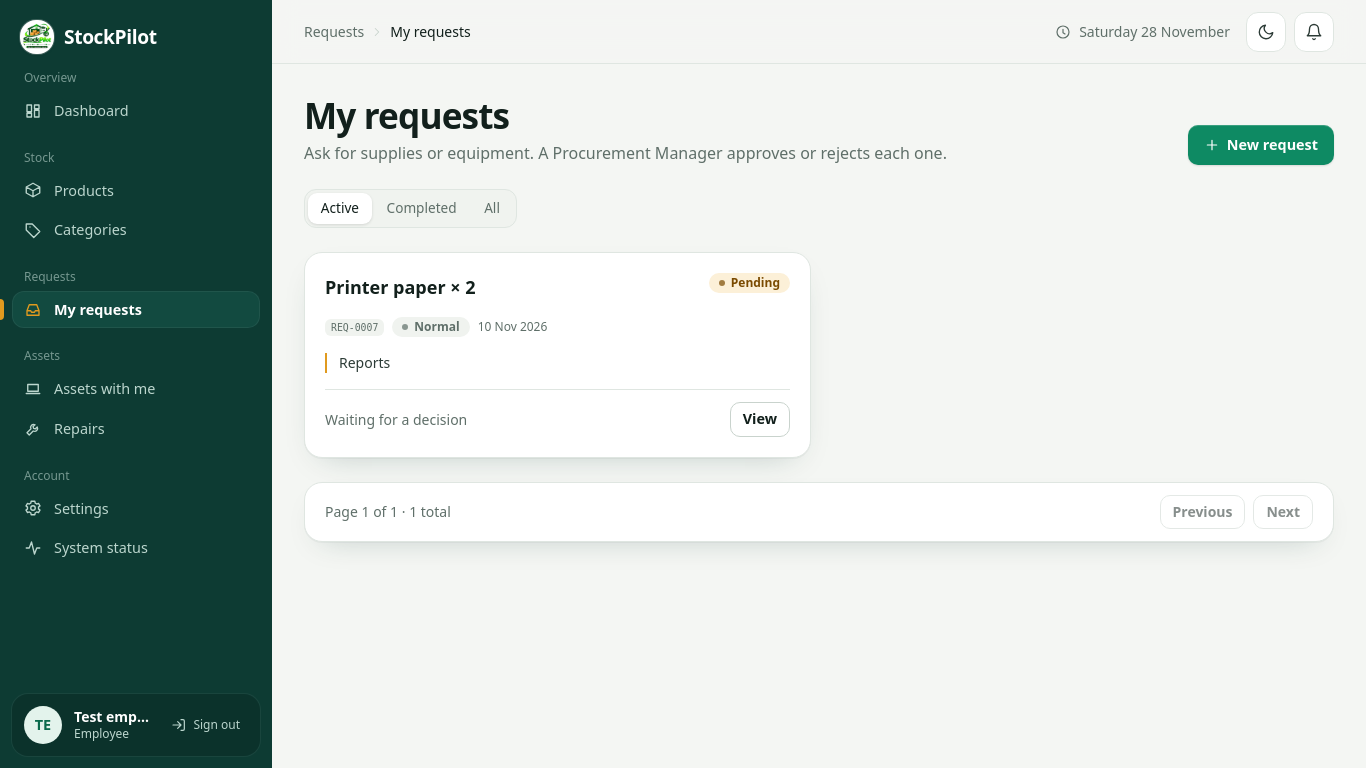
optimistic requests › bring back a request the server would not cancel
This screenshot has width=1366, height=768.
Click the button with aria-label "View request for Printer paper" at (760, 420), box x1=730 y1=402 x2=790 y2=437
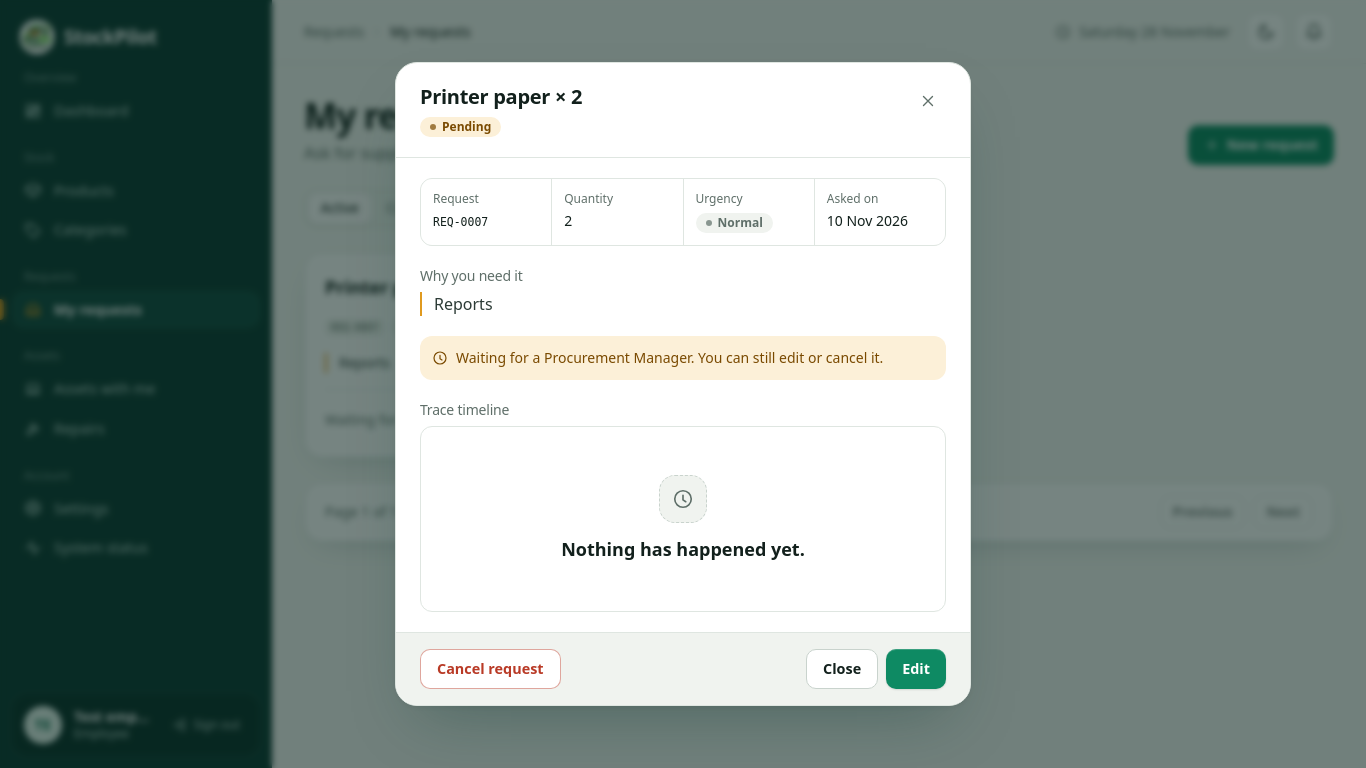
Click the button "Cancel request" at (490, 669), box x1=420 y1=649 x2=561 y2=689
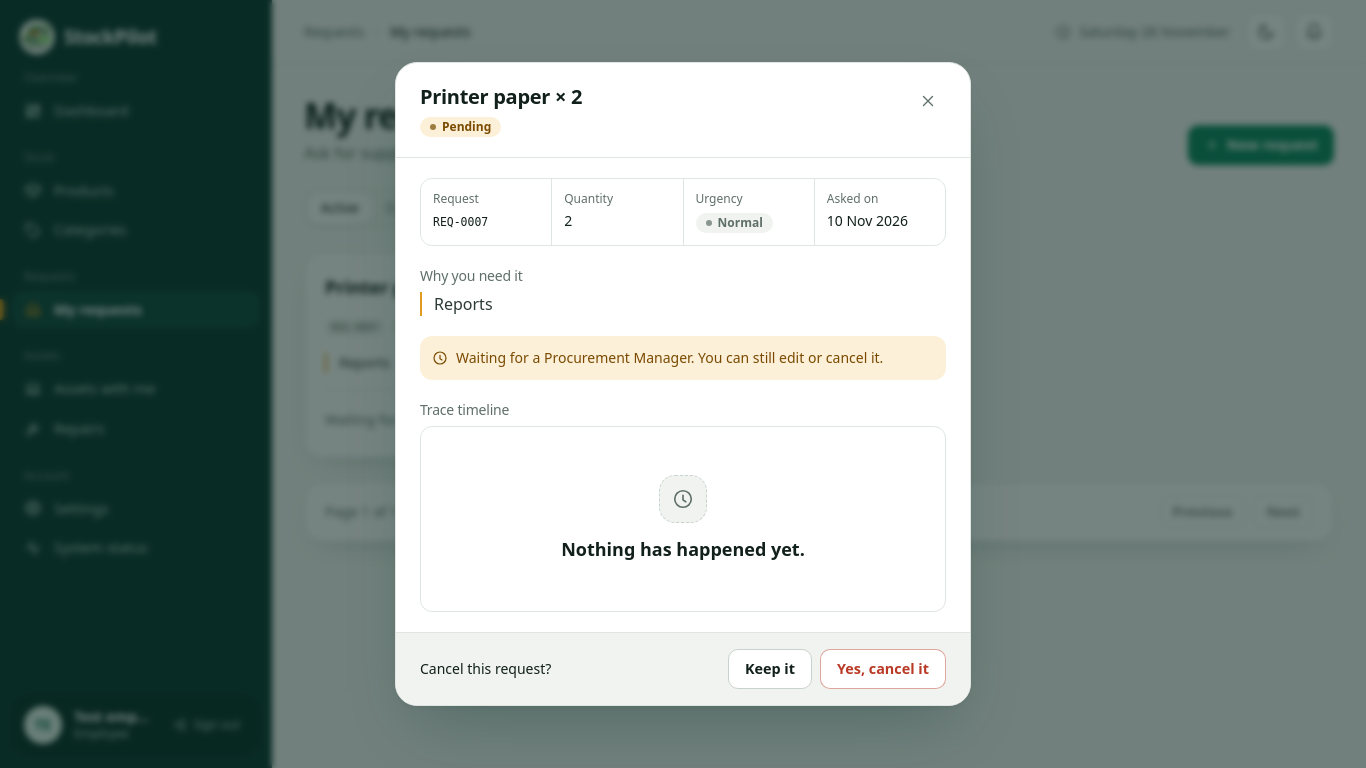
Click the button "Yes, cancel it" at (883, 669), box x1=820 y1=649 x2=946 y2=689
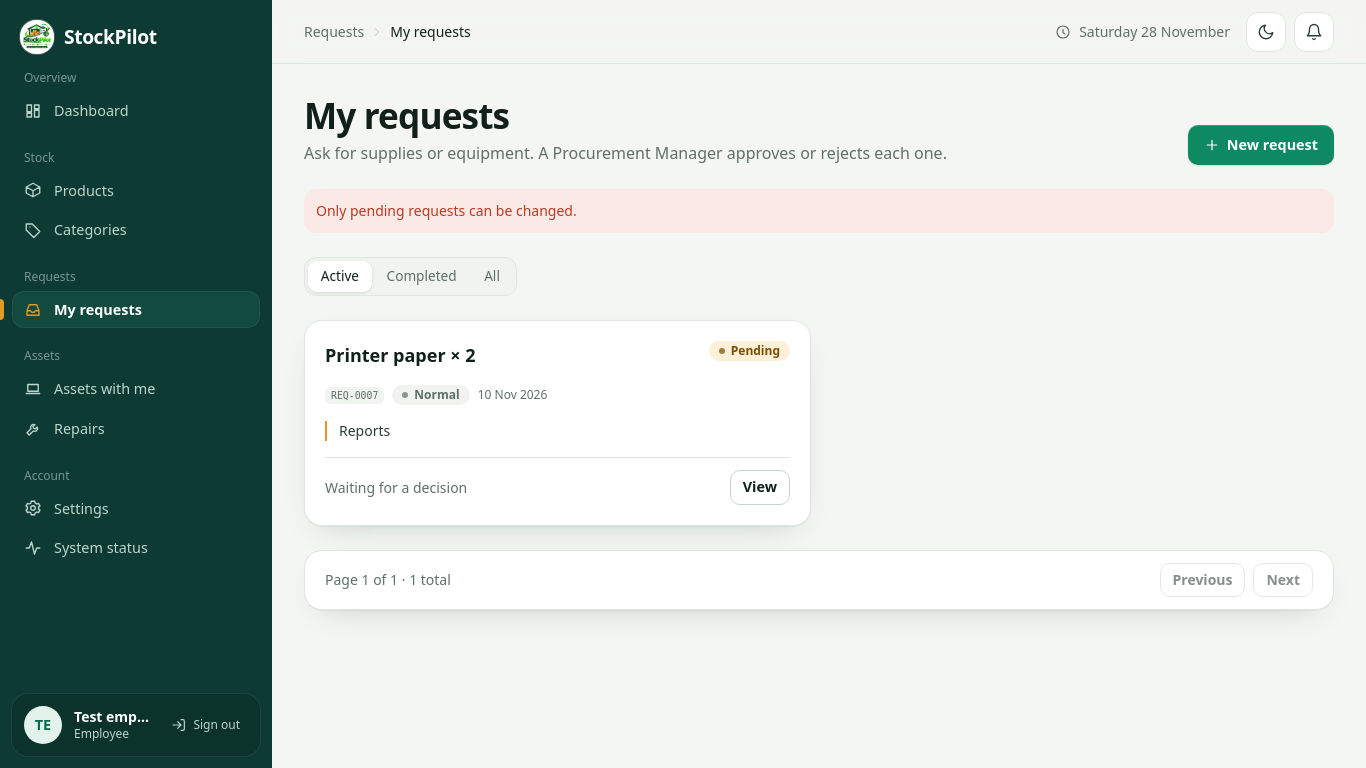
Expected: the text "Printer paper × 2" is shown, x1=325 y1=341 x2=476 y2=369
Result: the message reads "Only pending requests can be changed." at x1=316 y1=201 x2=577 y2=220
